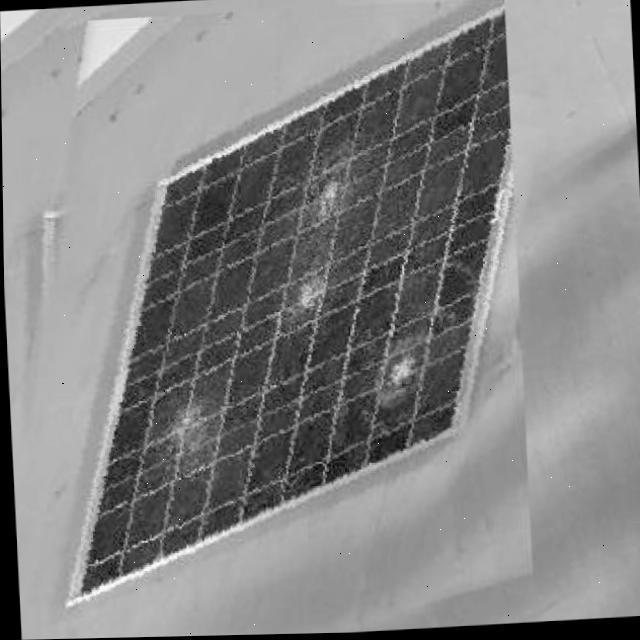Anomaly Solar Panel: (67, 9, 513, 608)
Structural Damage: (137, 352, 236, 492), (269, 249, 354, 346), (372, 284, 434, 408), (286, 168, 381, 213)
